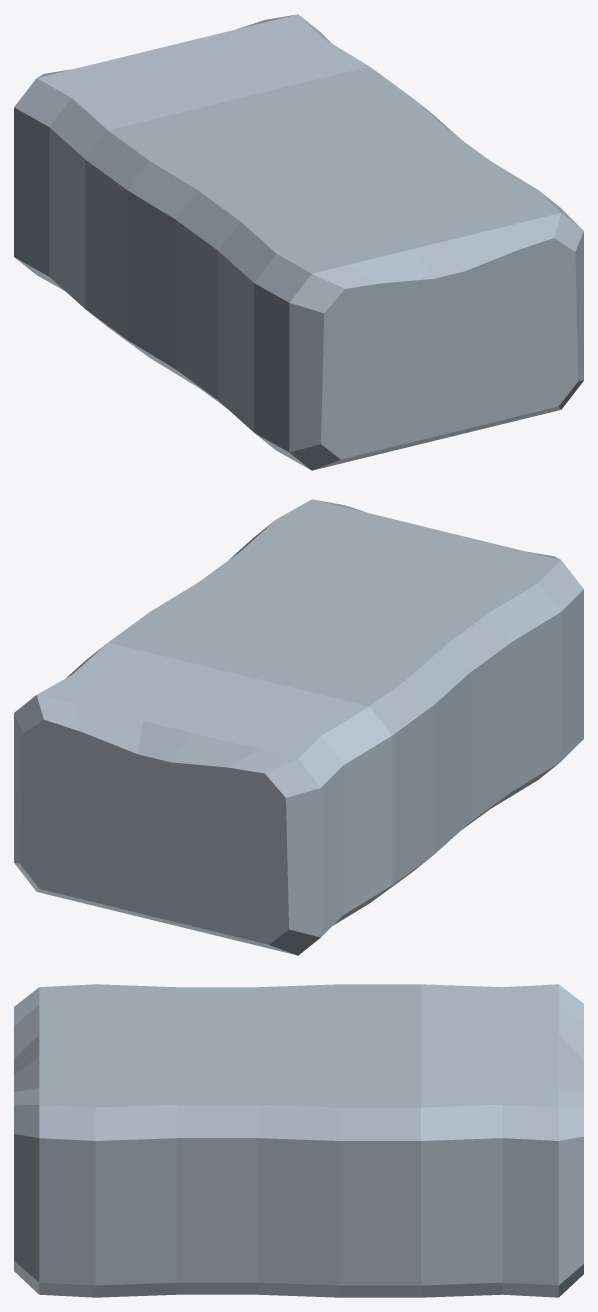
File: pillar_medium_a.glb
3 views of the same model, one above another, from view 1: azimuth 30°, elevation 25°; view 2: azimuth 150°, elevation 25°; view 3: azimuth 270°, elevation 25° (orthographic). The views are drawn at different scales.
Parts seen in each view (by area): view 1: pillar_medium_a; view 2: pillar_medium_a; view 3: pillar_medium_a.
Boxes of the visible parts, x1,y1,x2,y2 form: pillar_medium_a: (14, 14, 583, 470); pillar_medium_a: (14, 499, 583, 955); pillar_medium_a: (14, 984, 583, 1297).
Size of the model in its own units: 3.6 by 2.21 by 6.
